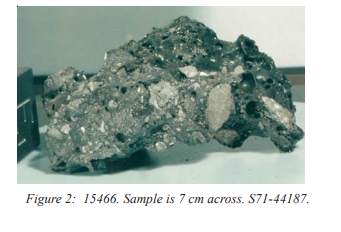Breccia: (38, 16, 278, 168)
